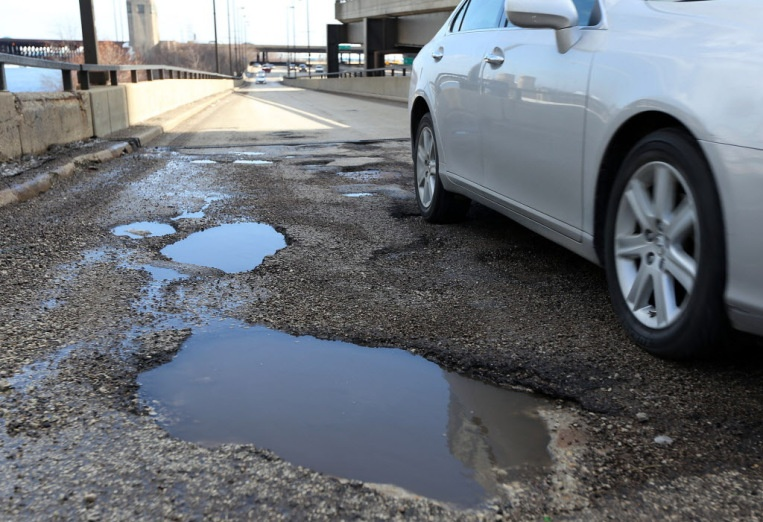pothole: (107, 162, 362, 313)
